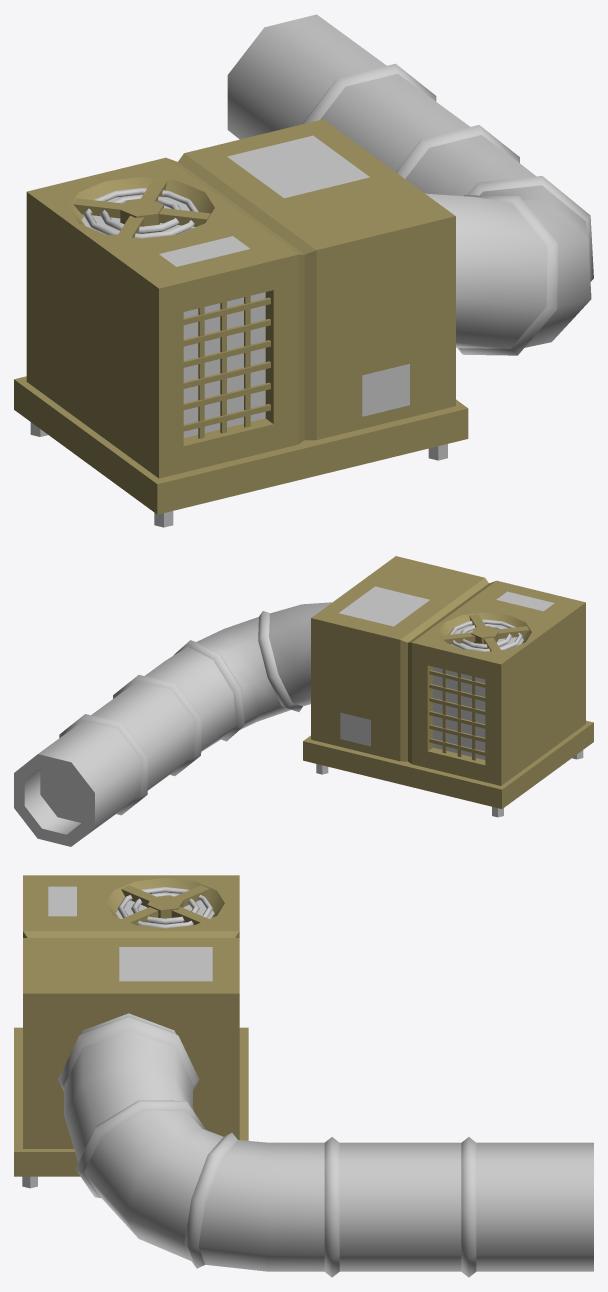
Rendered from conditioner_001.fbx.
The picture shows the model from 3 angles, top to bottom: view 1: azimuth 30°, elevation 25°; view 2: azimuth 150°, elevation 25°; view 3: azimuth 270°, elevation 25°; orthographic projection. The views are drawn at different scales.
Visible parts, largest first — view 1: conditioner_001; view 2: conditioner_001; view 3: conditioner_001.
Part boxes in pixels (<box>): conditioner_001: <box>14,14,593,527</box>; conditioner_001: <box>14,556,593,846</box>; conditioner_001: <box>14,875,593,1277</box>.
Size of the model in its own units: 230 by 253 by 96.91.
